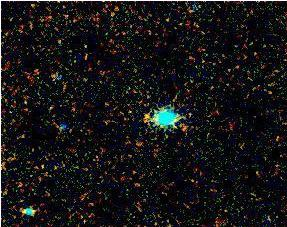star: (133, 103, 163, 133)
